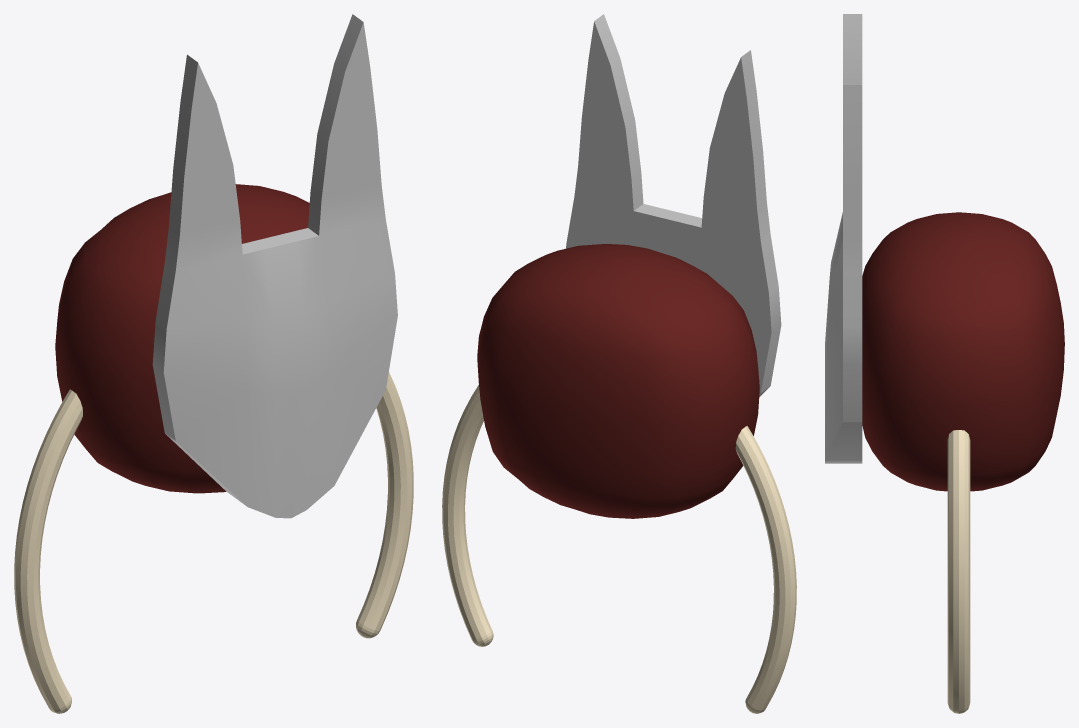
The model's file is enemy01.fbx.
The picture shows the model from 3 angles, left to right: view 1: azimuth 30°, elevation 25°; view 2: azimuth 150°, elevation 25°; view 3: azimuth 270°, elevation 25°; orthographic projection. The views are drawn at different scales.
Parts seen in each view (by area): view 1: enemy01; view 2: enemy01; view 3: enemy01.
Part boxes in pixels (<box>): enemy01: <box>14,14,413,713</box>; enemy01: <box>442,14,796,713</box>; enemy01: <box>825,14,1064,713</box>.
Bounding box in the file's own units: 2.7 × 4.43 × 1.61.
